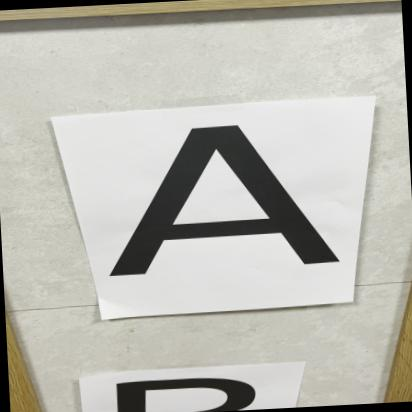seat: (94, 114, 347, 300)
